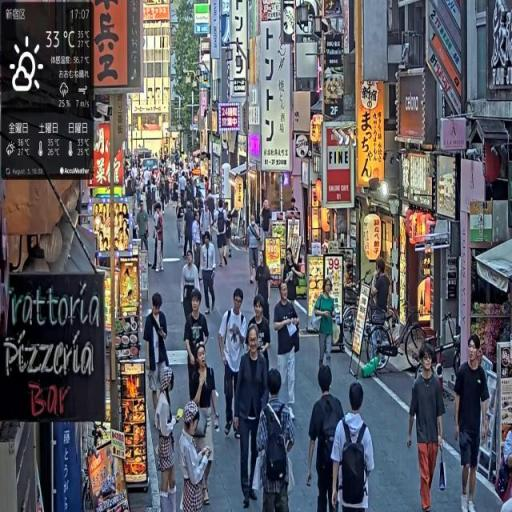person: (233, 325, 271, 512), (407, 342, 448, 512), (454, 333, 492, 512), (255, 370, 298, 512), (307, 364, 347, 512), (331, 381, 376, 511), (187, 342, 221, 506), (219, 289, 249, 439), (155, 369, 181, 512), (180, 402, 213, 512), (274, 281, 301, 413), (144, 292, 172, 413), (185, 291, 211, 405), (315, 279, 338, 376), (248, 296, 273, 376), (181, 251, 201, 334), (199, 231, 218, 315), (247, 212, 262, 286), (152, 203, 166, 274), (136, 202, 151, 263), (183, 202, 196, 263), (193, 209, 204, 273)
